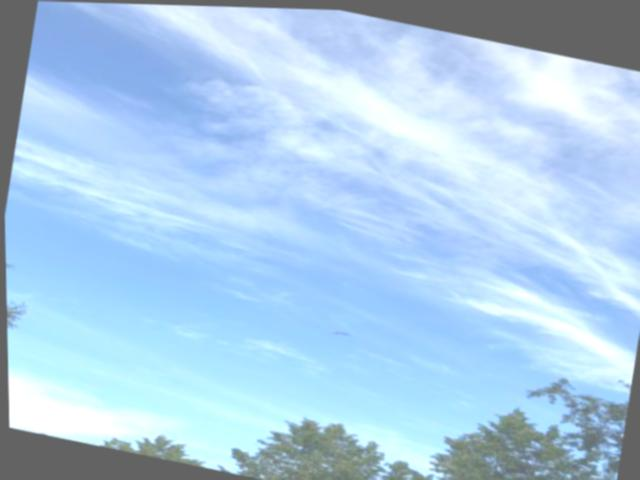bird: (318, 317, 366, 345)
